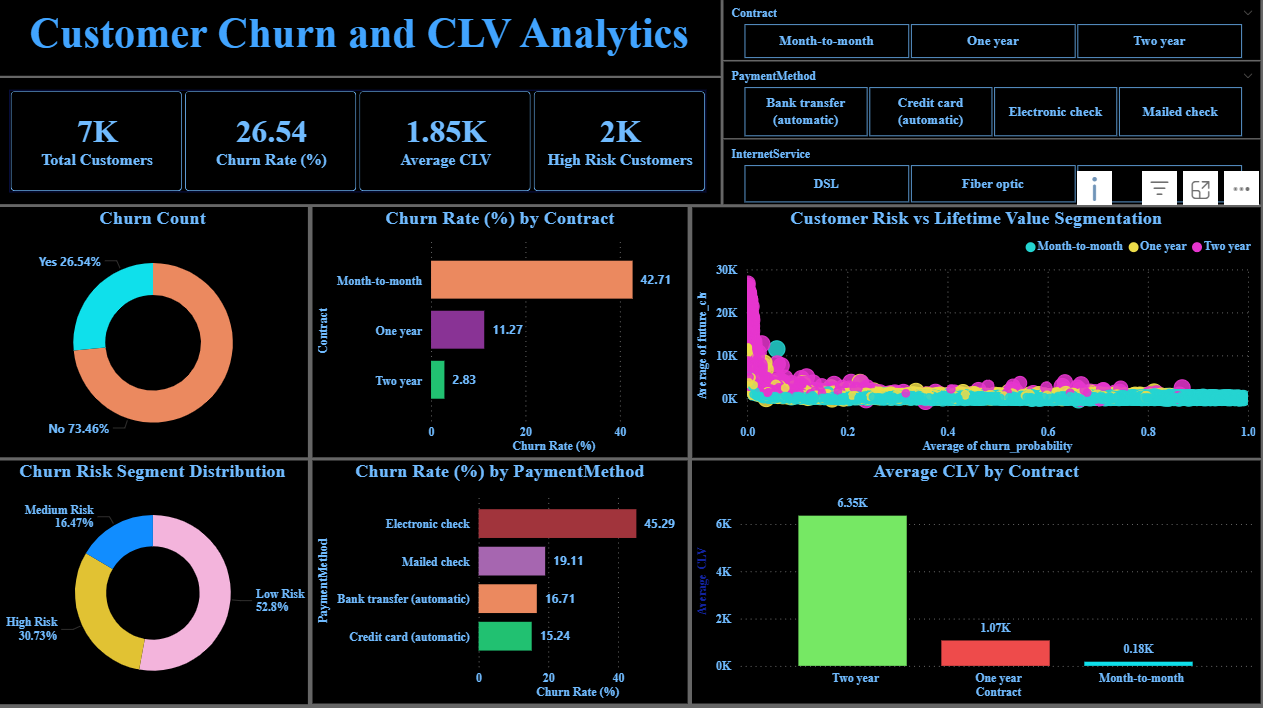

The page's visual inventory and layout, read from the dashboard file:
{"tool":"powerbi","page":{"name":"Page 1","canvas":[1280,720],"ordinal":0},"visuals":[{"type":"cardVisual","fields":{"Data":["Telco-Customer-Churn_With_Predictions.Total Customers","Telco-Customer-Churn_With_Predictions.churn_rate","Telco-Customer-Churn_With_Predictions.Average CLV","Telco-Customer-Churn_With_Predictions.High Risk Customers"]},"box":[1.5,81.8,729.8,127.2],"z":0},{"type":"donutChart","title":"Churn Count","fields":{"Category":["Telco-Customer-Churn_With_Predictions.Churn"],"Y":["CountNonNull(Telco-Customer-Churn_With_Predictions.Churn)"]},"box":[1.5,212,313.4,252.9],"z":1000},{"type":"textbox","box":[1.5,1.5,729.8,78],"z":2000},{"type":"donutChart","title":"Churn Risk Segment Distribution","fields":{"Category":["Telco-Customer-Churn_With_Predictions.Churn Risk Segment"],"Y":["CountNonNull(Telco-Customer-Churn_With_Predictions.Churn Risk Segment)"]},"box":[1.5,468,313,246],"z":3000},{"type":"barChart","fields":{"Y":["Telco-Customer-Churn_With_Predictions.Churn Rate"],"Category":["Telco-Customer-Churn_With_Predictions.Contract"]},"box":[319.5,212,378.6,252.9],"z":4000},{"type":"barChart","fields":{"Y":["Telco-Customer-Churn_With_Predictions.Churn Rate"],"Category":["Telco-Customer-Churn_With_Predictions.PaymentMethod"]},"box":[319.5,467.9,378.6,245.3],"z":5000},{"type":"columnChart","fields":{"Y":["Telco-Customer-Churn_With_Predictions.Average CLV"],"Category":["Telco-Customer-Churn_With_Predictions.Contract"]},"box":[702.6,467.9,573.9,245.3],"z":6000},{"type":"slicer","fields":{"Values":["Telco-Customer-Churn_With_Predictions.Contract"]},"box":[735,1.5,542,62.1],"z":7000},{"type":"slicer","fields":{"Values":["Telco-Customer-Churn_With_Predictions.PaymentMethod"]},"box":[735,65.1,542,77.2],"z":8000},{"type":"slicer","fields":{"Values":["Telco-Customer-Churn_With_Predictions.InternetService"]},"box":[735,144,542,65.1],"z":9000},{"type":"scatterChart","title":"Customer Risk vs Lifetime Value Segmentation","fields":{"X":["Avg(Telco-Customer-Churn_With_Predictions.churn_probability)"],"Y":["Avg(Telco-Customer-Churn_With_Predictions.future_clv)"],"Size":["Avg(Telco-Customer-Churn_With_Predictions.MonthlyCharges)"],"Series":["Telco-Customer-Churn_With_Predictions.Contract"],"Category":["Telco-Customer-Churn_With_Predictions.customerID"]},"box":[702.6,212,573.9,252.9],"z":10001}]}

Visuals, with their boxes in screenshot pixels (x1, y1, x2, y2), scaled from the page's 1280x720 canvas onto the 1263x708 screenshot:
cardVisual - Telco-Customer-Churn_With_Predictions.Total Customers x Telco-Customer-Churn_With_Predictions.churn_rate: {"x1": 1, "y1": 80, "x2": 722, "y2": 206}
"Churn Count" donutChart: {"x1": 1, "y1": 208, "x2": 311, "y2": 457}
textbox: {"x1": 1, "y1": 1, "x2": 722, "y2": 78}
"Churn Risk Segment Distribution" donutChart: {"x1": 1, "y1": 460, "x2": 310, "y2": 702}
barChart - Telco-Customer-Churn_With_Predictions.Churn Rate x Telco-Customer-Churn_With_Predictions.Contract: {"x1": 315, "y1": 208, "x2": 689, "y2": 457}
barChart - Telco-Customer-Churn_With_Predictions.Churn Rate x Telco-Customer-Churn_With_Predictions.PaymentMethod: {"x1": 315, "y1": 460, "x2": 689, "y2": 701}
columnChart - Telco-Customer-Churn_With_Predictions.Average CLV x Telco-Customer-Churn_With_Predictions.Contract: {"x1": 693, "y1": 460, "x2": 1260, "y2": 701}
slicer - Telco-Customer-Churn_With_Predictions.Contract: {"x1": 725, "y1": 1, "x2": 1260, "y2": 63}
slicer - Telco-Customer-Churn_With_Predictions.PaymentMethod: {"x1": 725, "y1": 64, "x2": 1260, "y2": 140}
slicer - Telco-Customer-Churn_With_Predictions.InternetService: {"x1": 725, "y1": 142, "x2": 1260, "y2": 206}
"Customer Risk vs Lifetime Value Segmentation" scatterChart: {"x1": 693, "y1": 208, "x2": 1260, "y2": 457}
